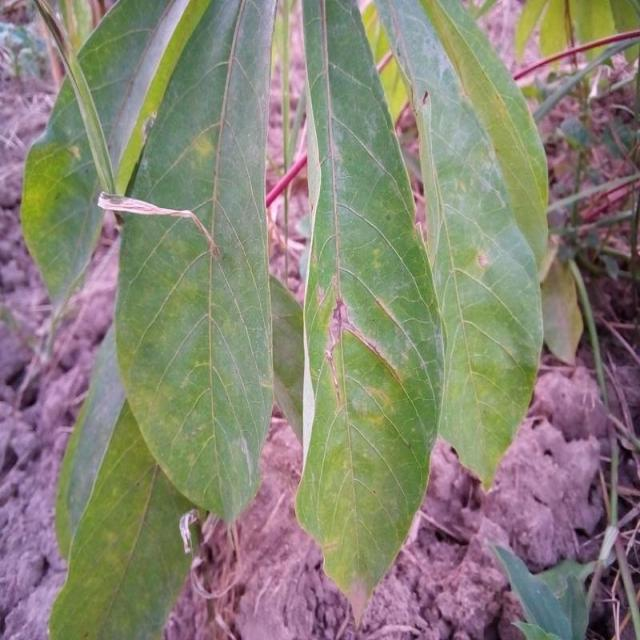cassava leaf: (20, 0, 553, 637), (293, 0, 445, 629), (107, 0, 278, 529), (371, 0, 550, 492)
